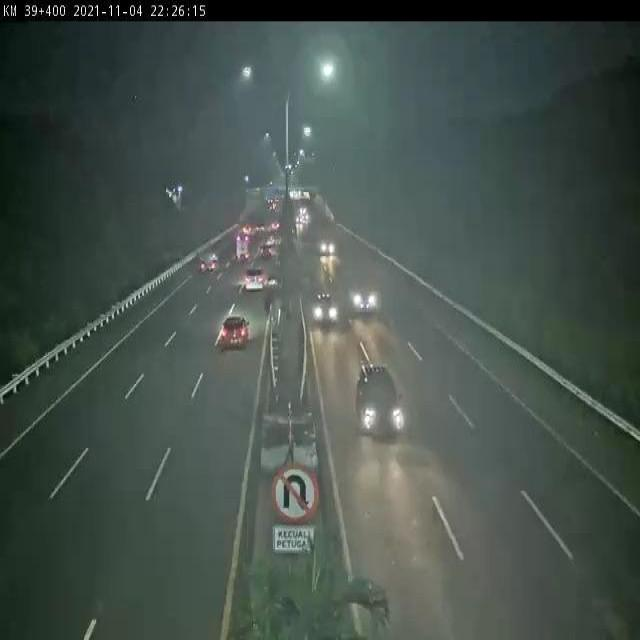car: (351, 362, 417, 446), (213, 309, 256, 355), (346, 276, 385, 313), (310, 291, 336, 328), (241, 264, 269, 289), (322, 229, 337, 260)
